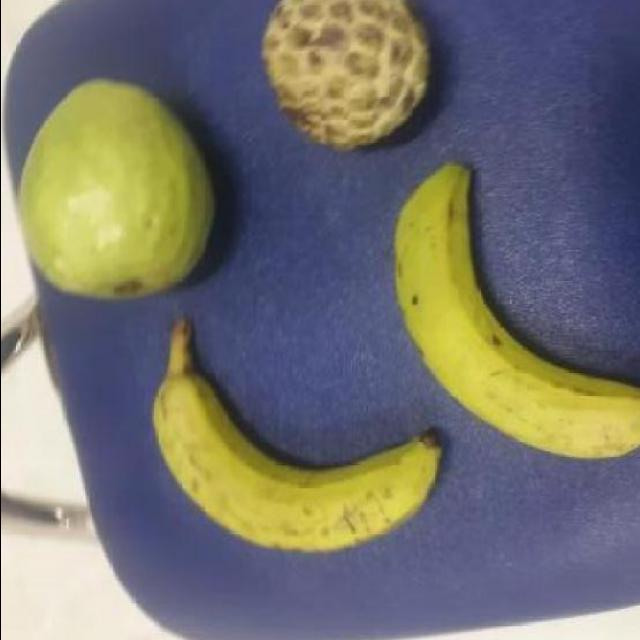banana: (396, 148, 640, 452), (148, 307, 442, 554)
guava: (9, 71, 221, 302)
sugar apple: (262, 0, 430, 150)
